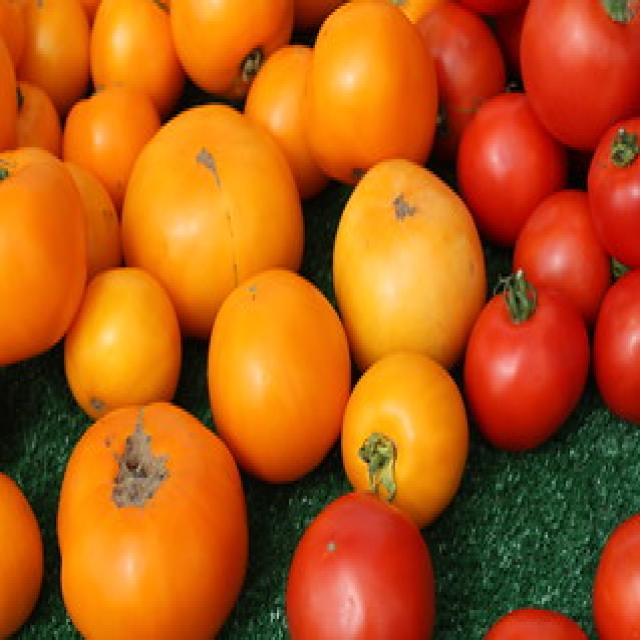Tomato: (285, 490, 439, 640), (464, 286, 594, 450), (516, 2, 640, 152), (456, 90, 573, 238), (513, 184, 622, 321), (586, 113, 638, 273), (596, 272, 640, 430)
